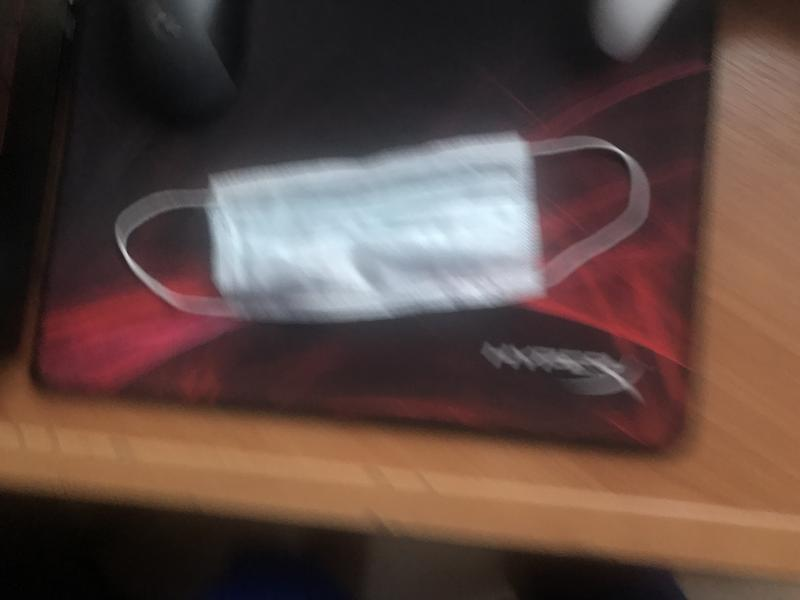medical_mask: (116, 136, 645, 316)
